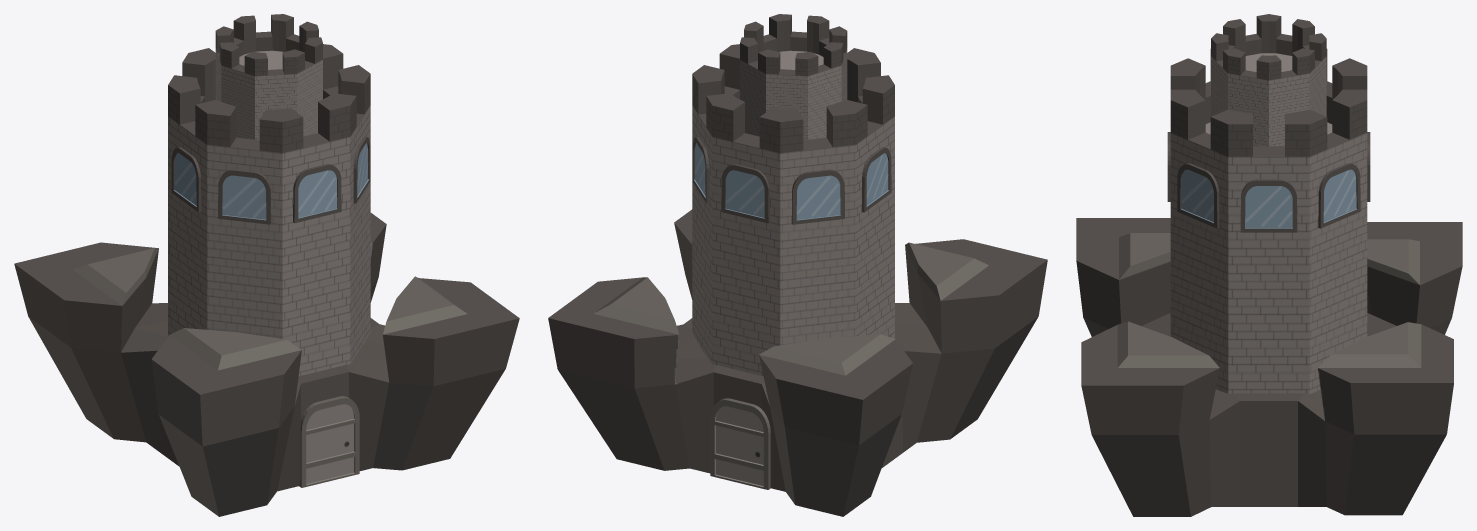
File: CastleLevel3.fbx
The picture shows the model from 3 angles, left to right: view 1: azimuth 30°, elevation 25°; view 2: azimuth 150°, elevation 25°; view 3: azimuth 270°, elevation 25°; orthographic projection. The views are drawn at different scales.
Parts seen in each view (by area): view 1: Cylinder.003; view 2: Cylinder.003; view 3: Cylinder.003.
Boxes of the visible parts, box(x1,y1,x2,y2) form: Cylinder.003: box(14, 14, 519, 516); Cylinder.003: box(548, 14, 1047, 516); Cylinder.003: box(1076, 14, 1462, 516).
Size of the model in its own units: 1537 by 1835 by 1530.
Materials: 1 (1 with a texture image).
